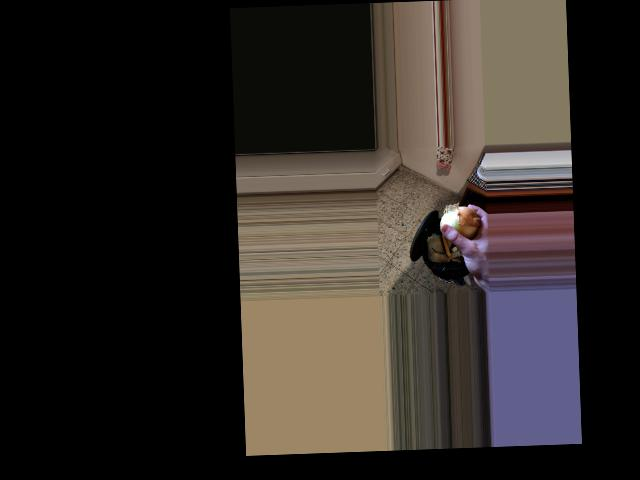onion: (441, 204, 477, 244)
